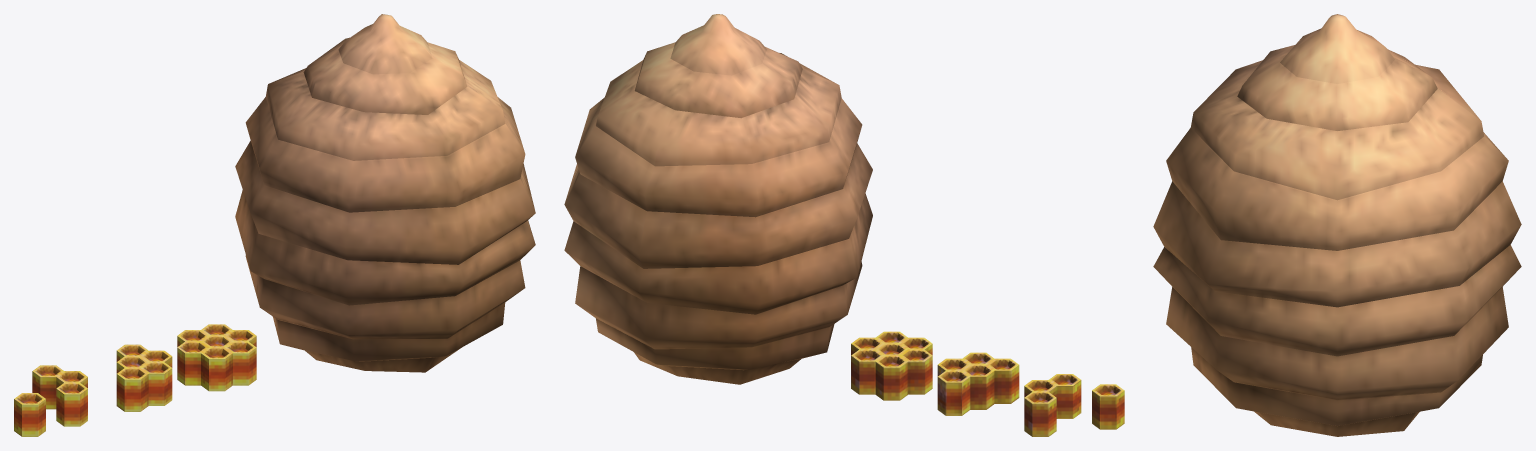
File: GorillaTagBeeAssets.fbx
3 views of the same model, side by side, from view 1: azimuth 30°, elevation 25°; view 2: azimuth 150°, elevation 25°; view 3: azimuth 270°, elevation 25° (orthographic). The views are drawn at different scales.
Parts seen in each view (by area): view 1: Beehive, Honeycomb_Bite00, Honeycomb_Bite01, Honeycomb_Bite02, Honeycomb_Bite03; view 2: Beehive, Honeycomb_Bite00, Honeycomb_Bite01, Honeycomb_Bite02, Honeycomb_Bite03; view 3: Beehive.
Part boxes in pixels (x1,y1,x2,y2): Beehive: [235, 14, 535, 372]; Honeycomb_Bite00: [177, 324, 256, 391]; Honeycomb_Bite01: [116, 344, 172, 411]; Honeycomb_Bite02: [32, 365, 87, 426]; Honeycomb_Bite03: [14, 393, 45, 436]; Beehive: [564, 14, 872, 384]; Honeycomb_Bite00: [851, 331, 932, 400]; Honeycomb_Bite01: [937, 352, 1019, 415]; Honeycomb_Bite02: [1024, 374, 1081, 436]; Honeycomb_Bite03: [1092, 384, 1124, 429]; Beehive: [1153, 14, 1521, 436].
Bounding box in the file's own units: 153 × 94.7 × 80.08.
